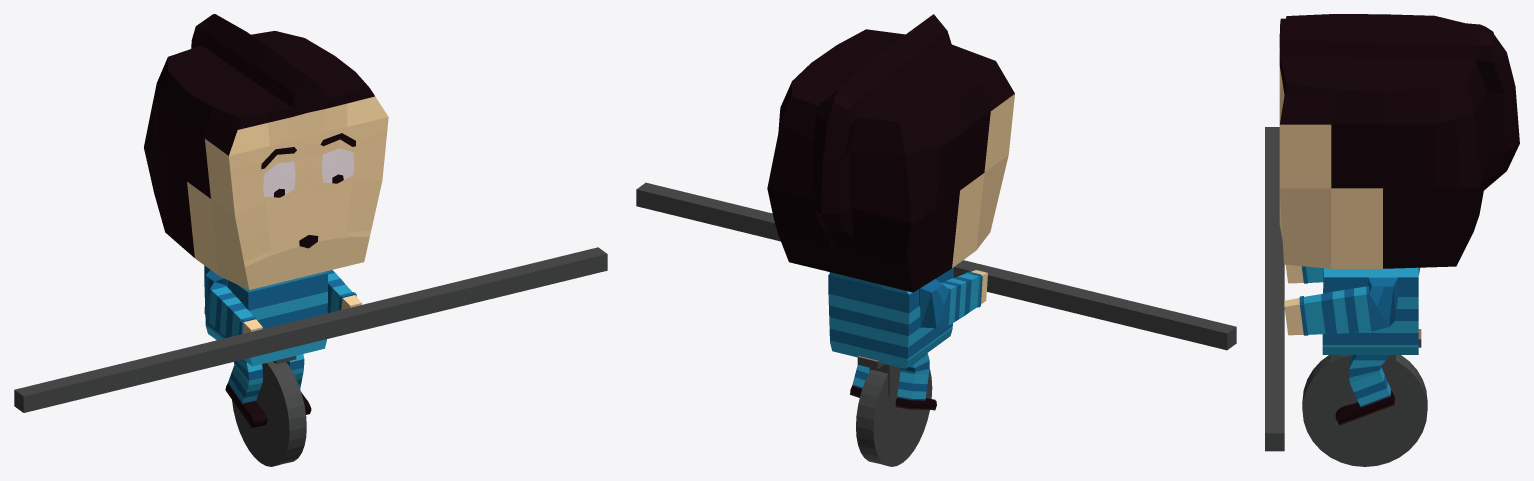
The model's file is Equilibrista.fbx.
The picture shows the model from 3 angles, left to right: view 1: azimuth 30°, elevation 25°; view 2: azimuth 150°, elevation 25°; view 3: azimuth 270°, elevation 25°; orthographic projection. The views are drawn at different scales.
Visible parts, largest first — view 1: Character; view 2: Character; view 3: Character.
Part boxes in pixels (bbox=[...]): Character: bbox=[14, 14, 607, 466]; Character: bbox=[636, 14, 1236, 466]; Character: bbox=[1265, 14, 1519, 466].
Bounding box in the file's own units: 701 × 473 × 247.
